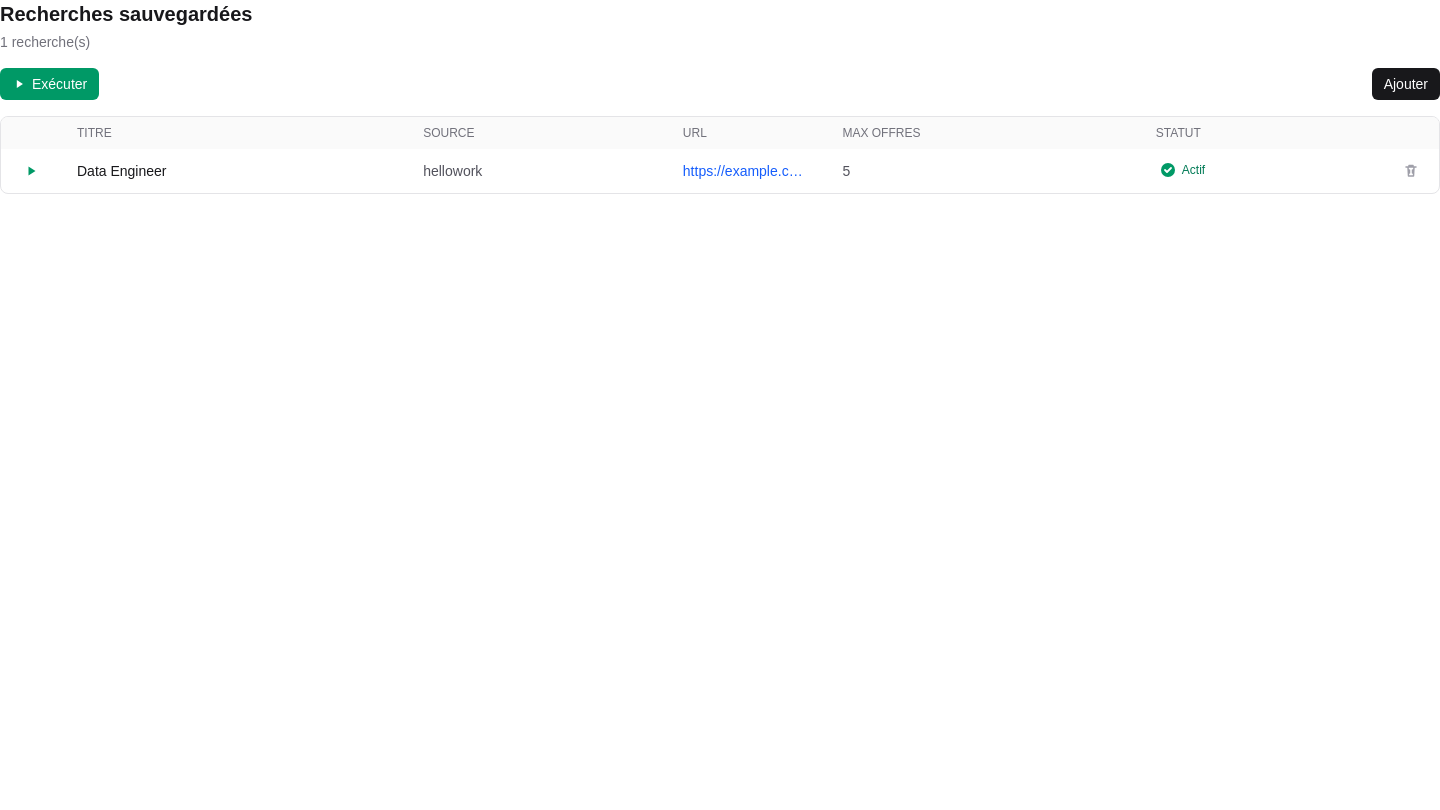
Test: SearchSettingsBrowser › supprime un paramètre après confirmation
Expected: the text "Data Engineer" is shown, [61,149,407,193]
# Bouton de suppression de la ligne (ne déclenche pas l'édition).
Step 1. Click the button named "Supprimer Data Engineer" → (1411, 170), box [1399,158,1423,182]
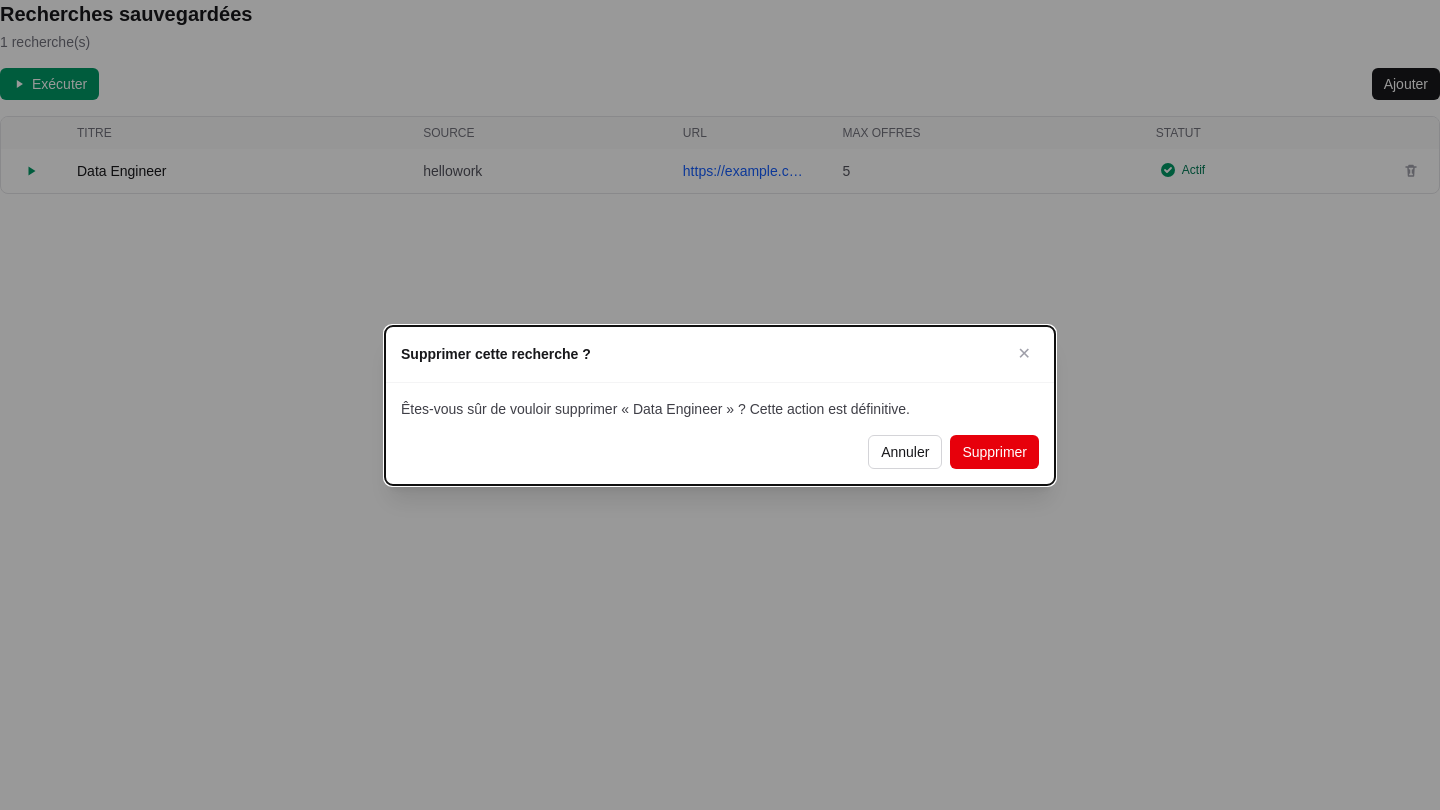
Now the text "Supprimer cette recherche ?" is shown, box [401,344,591,364]
Now the text "Êtes-vous sûr de vouloir supprimer « Data Engineer »" is shown, box [401,400,910,416]
Step 2. Click the button "Supprimer" → (995, 452), box [950,434,1039,468]
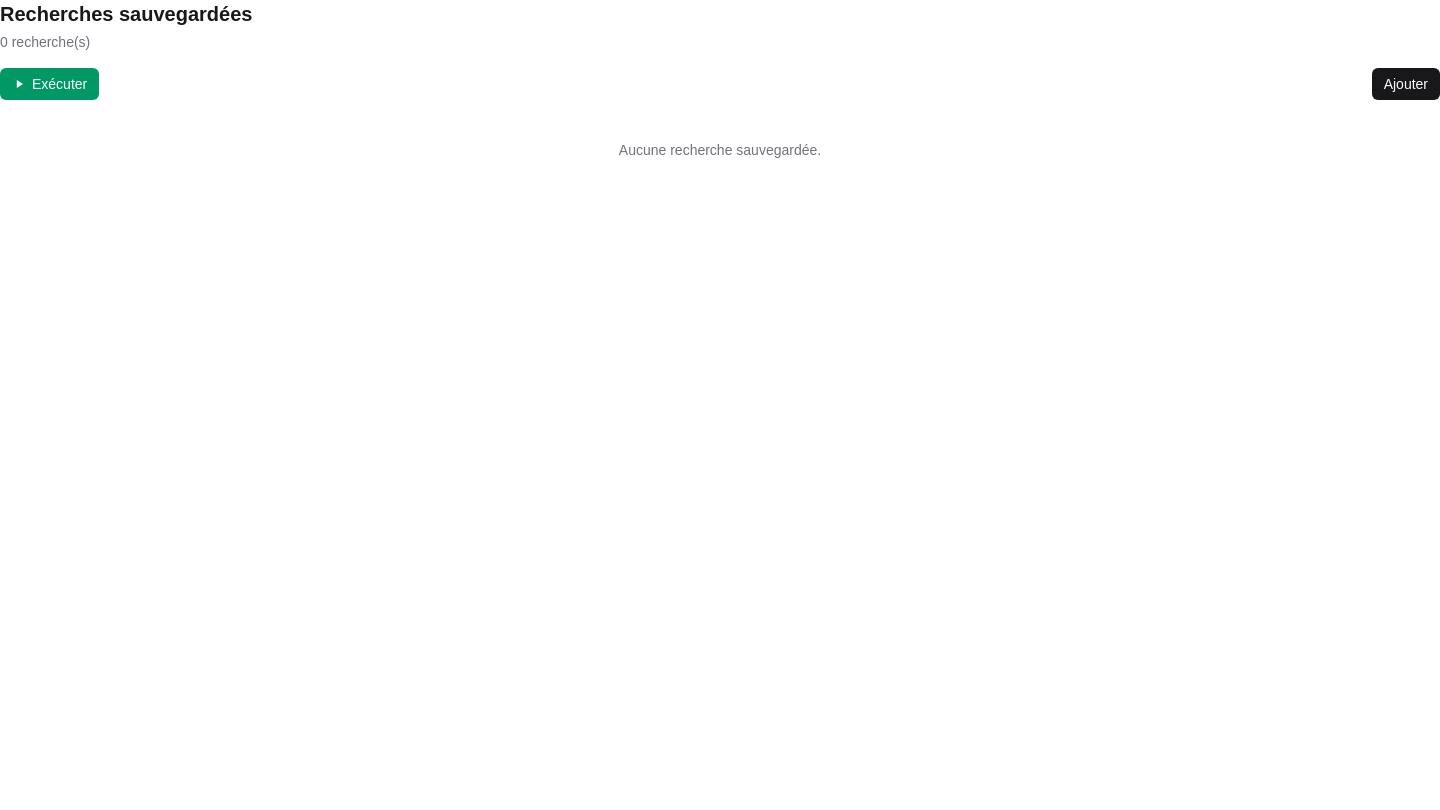
Now the text "Aucune recherche sauvegardée." is shown, box [619,142,821,158]
